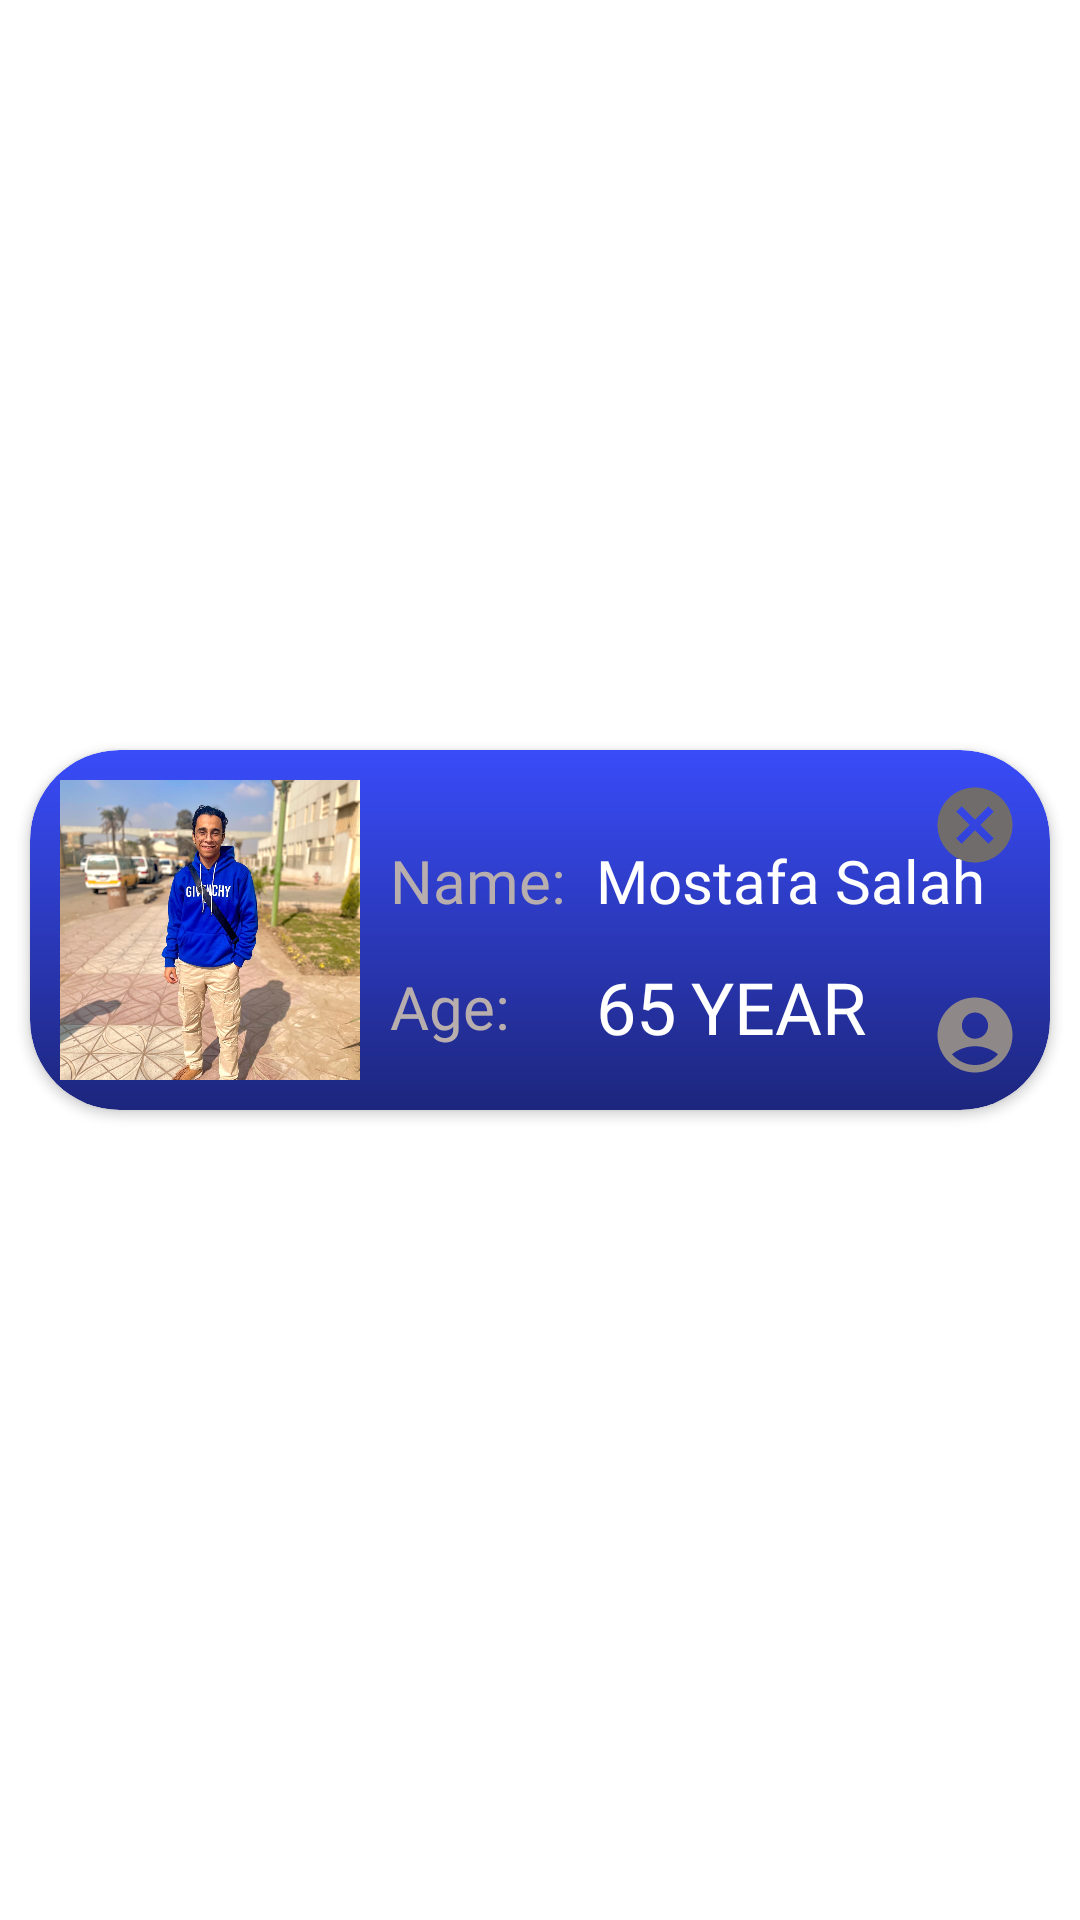

Point at icon controls on the screen. Image size 1080px×1920px, points as [x,y].
account circle: [975,1031]
cancel: [975,825]
